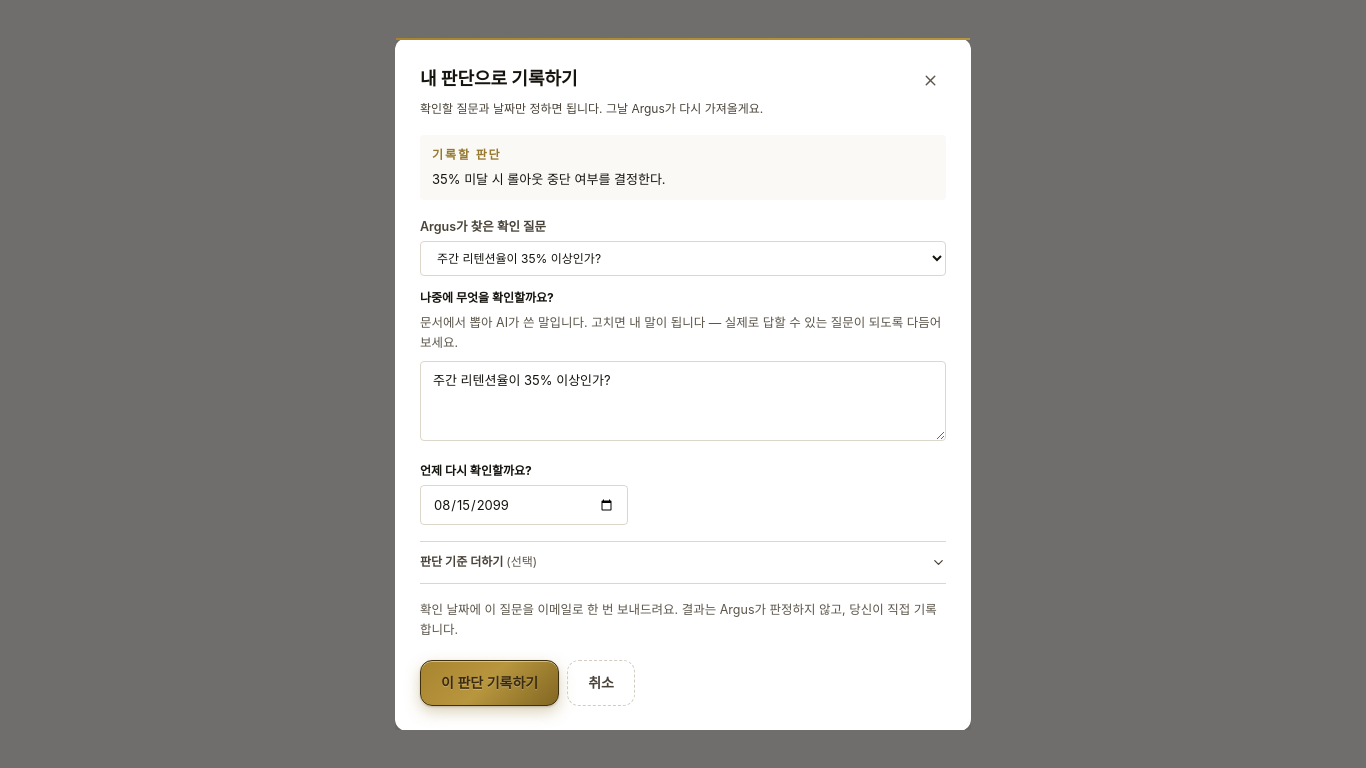
Test: SealModal simplified judgment recording › reveals judgment criteria only when requested
Click the button "판단 기준 더하기 (선택)". click: (462, 562)
box: 420,541 -> 946,584
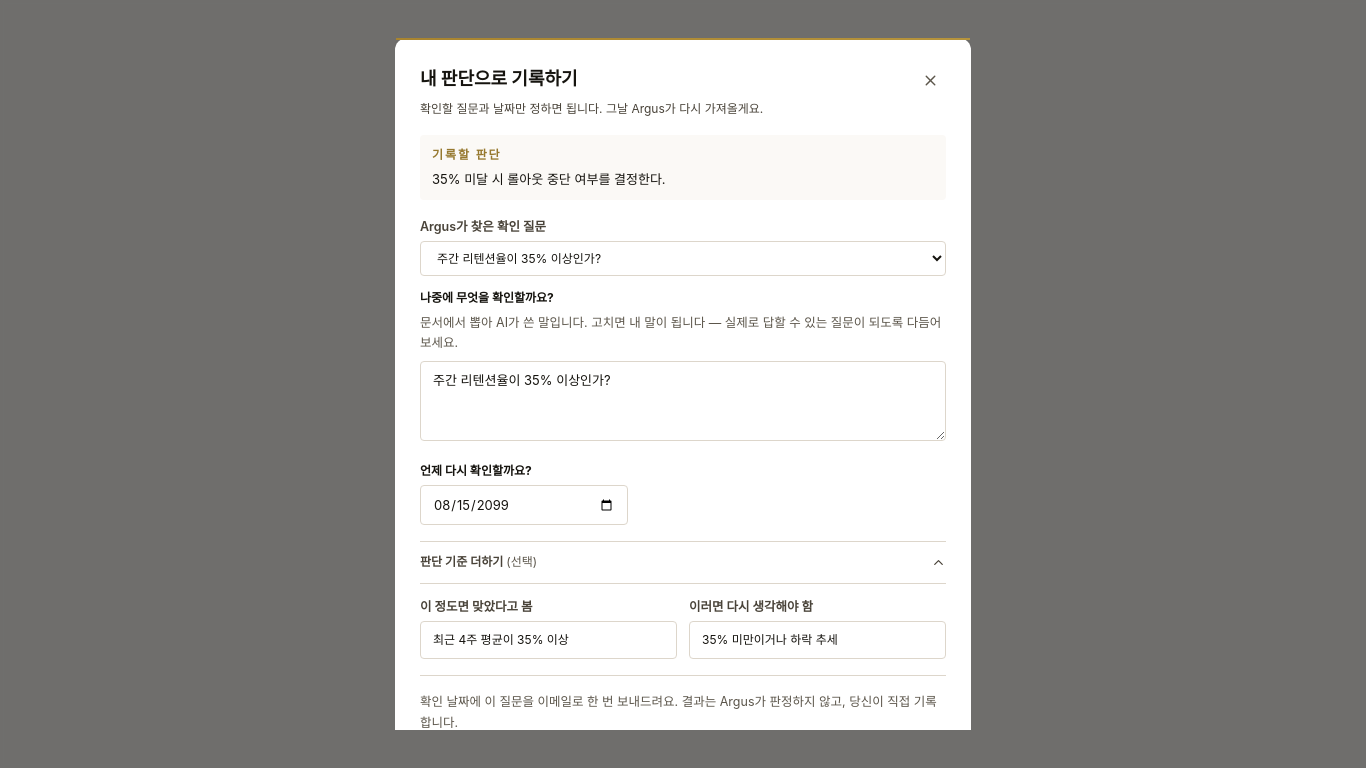
Check: the field with id "record-pass" holds "최근 4주 평균이 35% 이상", box 420,621 -> 677,659
Check: the field with id "record-fail" holds "35% 미만이거나 하락 추세", box 689,621 -> 946,659
